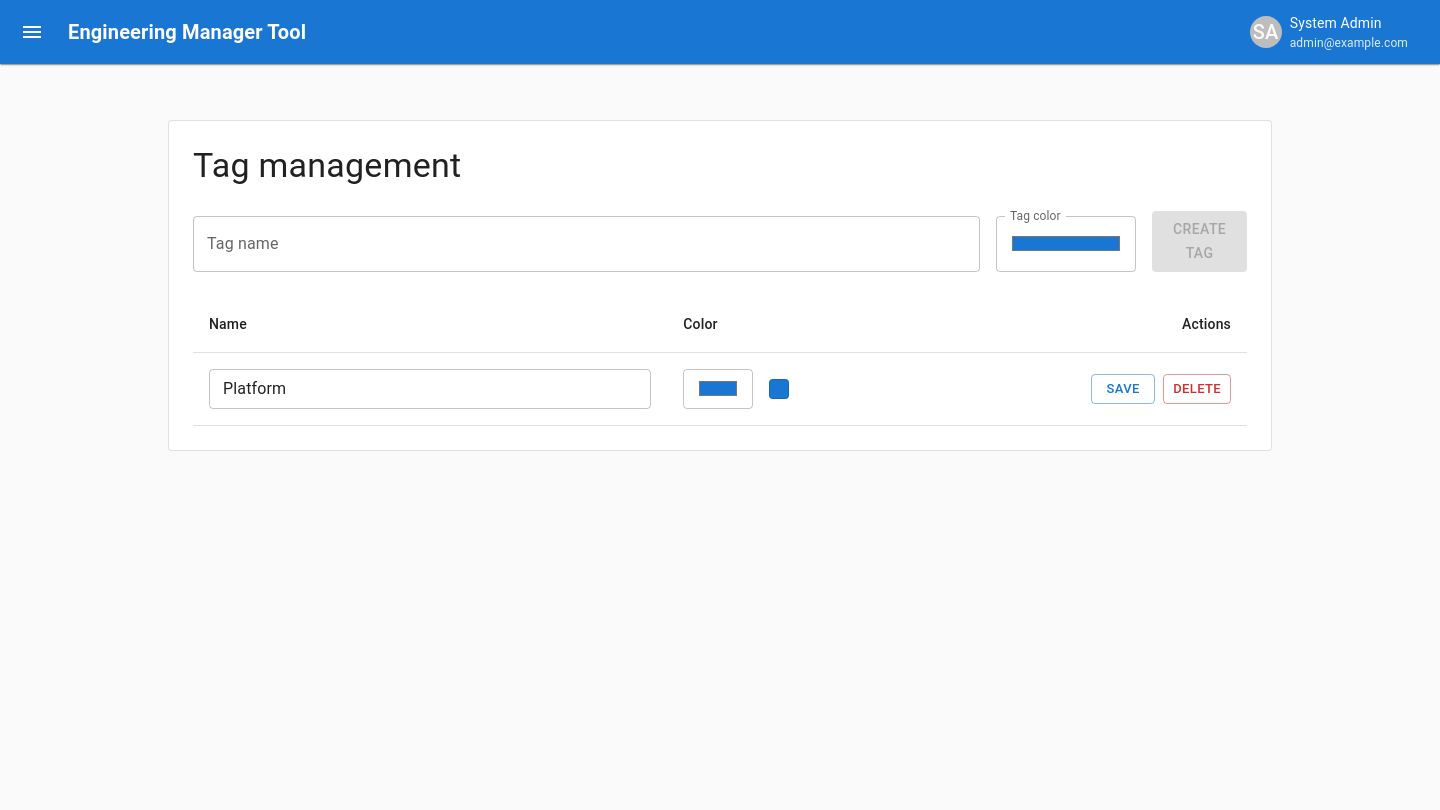
US4 delete errors › shows API error when delete fails
Click the button "Delete": coordinates (1197, 389) [1163,374,1231,404]
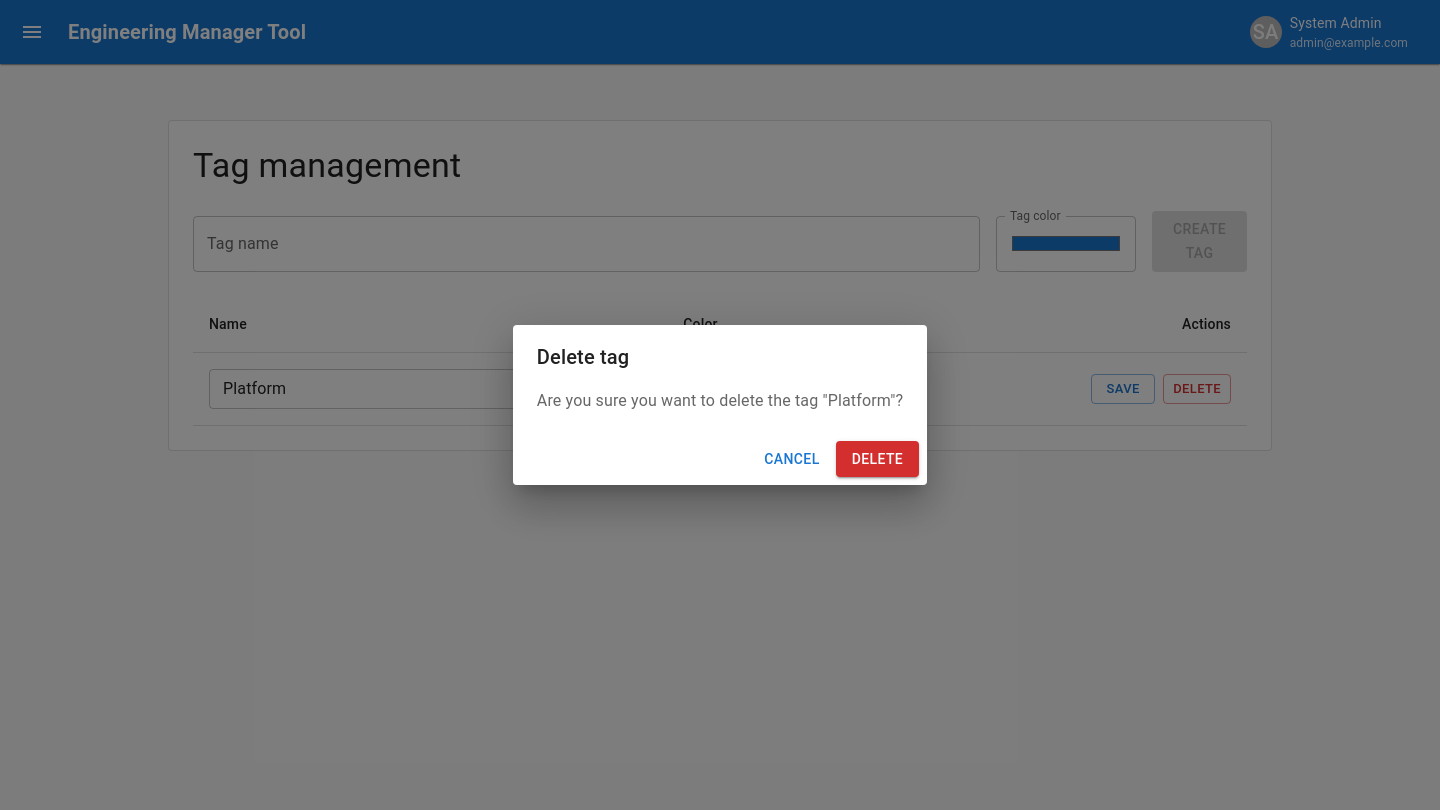
Click the button "Delete": coordinates (877, 459) [836,441,919,477]
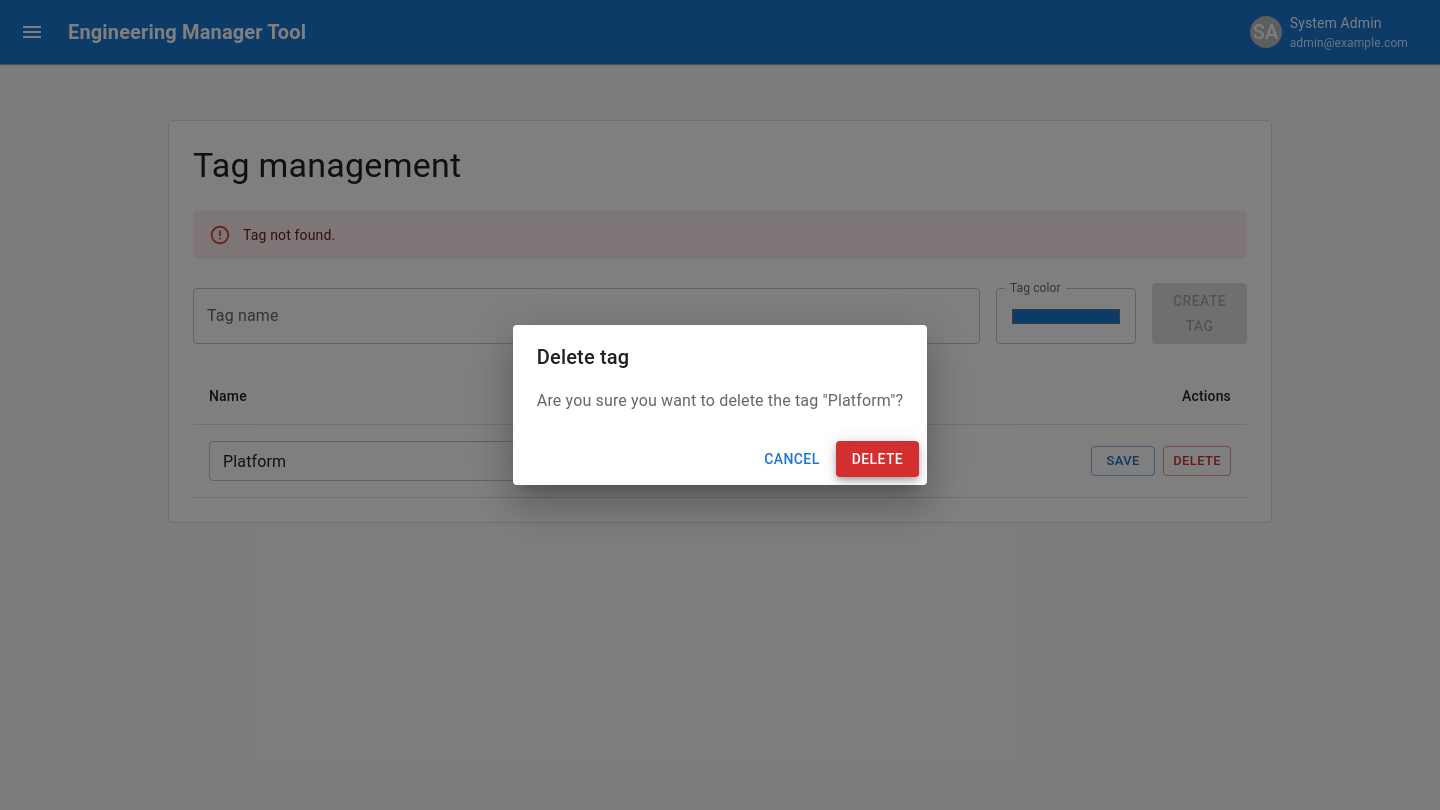
Check: the text "Tag not found." is shown, box [243,227,335,243]
